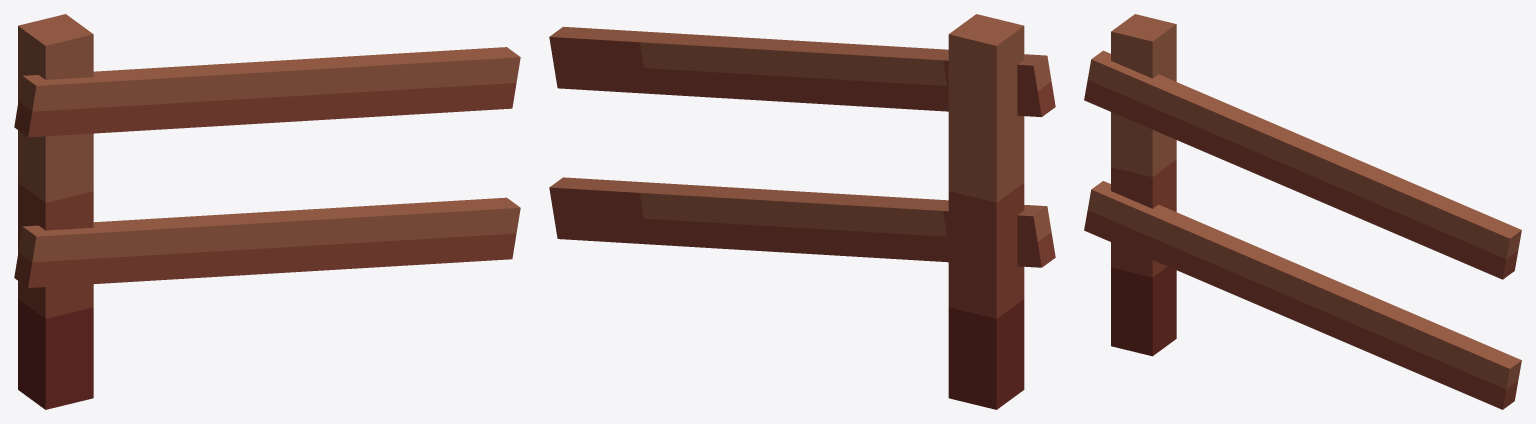
File: fence1.fbx
3 views of the same model, side by side, from view 1: azimuth 30°, elevation 25°; view 2: azimuth 150°, elevation 25°; view 3: azimuth 330°, elevation 25° (orthographic). The views are drawn at different scales.
Visible parts, largest first — view 1: plank, plank_1, pole; view 2: pole, plank_1, plank; view 3: plank_1, plank, pole.
Boxes of the visible parts, bbox=[...] form: plank: bbox=[14, 197, 520, 287]; plank_1: bbox=[14, 47, 520, 137]; pole: bbox=[18, 14, 93, 409]; pole: bbox=[948, 14, 1024, 409]; plank_1: bbox=[549, 26, 1055, 117]; plank: bbox=[549, 177, 1055, 267]; plank_1: bbox=[1084, 50, 1521, 279]; plank: bbox=[1084, 181, 1521, 409]; pole: bbox=[1111, 14, 1176, 356].
Size of the model in its own units: 257 by 181 by 31.25.
1 material, 1 textured.
